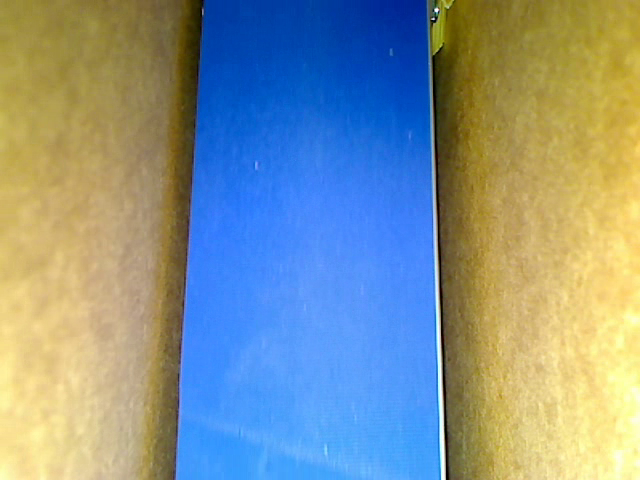penne: (429, 1, 446, 59), (438, 1, 459, 14)
